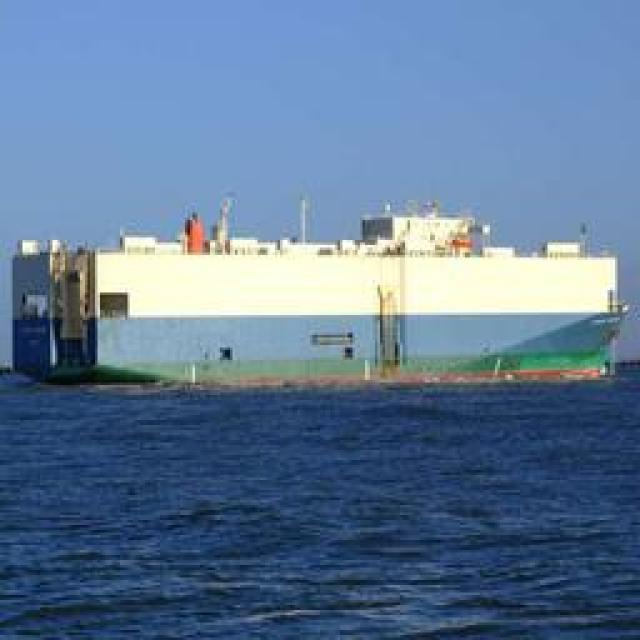ship2: (10, 182, 627, 388)
